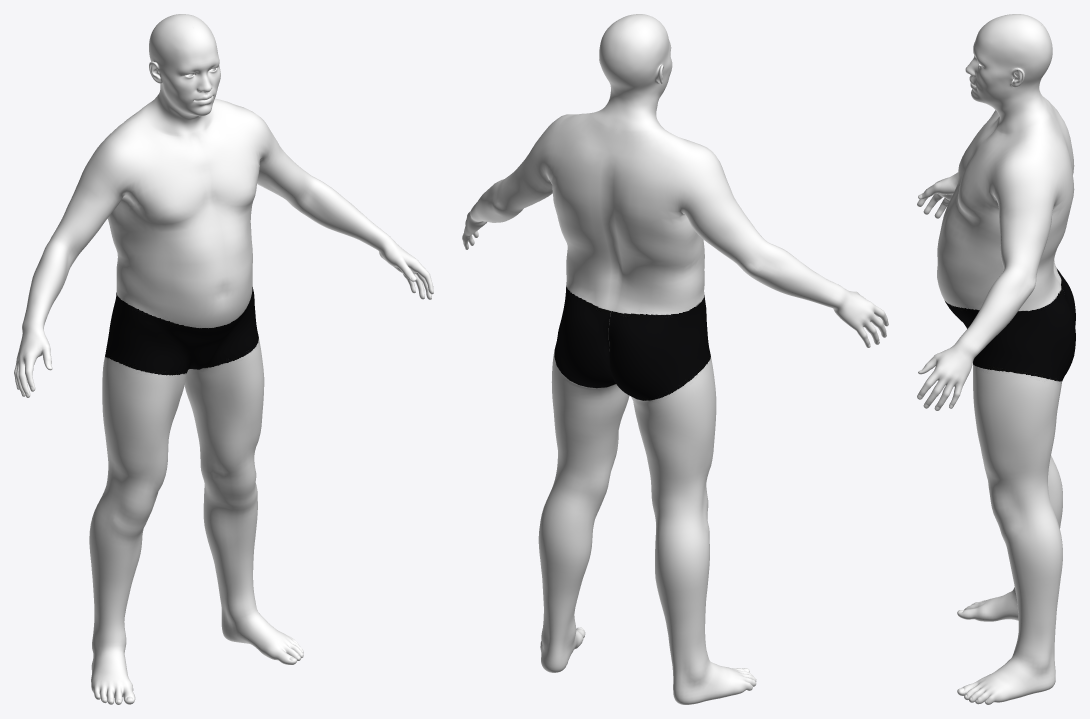
Rendered from alki_humgen_male_heavy.glb.
The picture shows the model from 3 angles, left to right: view 1: azimuth 30°, elevation 25°; view 2: azimuth 150°, elevation 25°; view 3: azimuth 270°, elevation 25°; orthographic projection. The views are drawn at different scales.
Visible parts, largest first — view 1: ALKI_male_heavy_preview; view 2: ALKI_male_heavy_preview; view 3: ALKI_male_heavy_preview.
Part boxes in pixels (x1=…): ALKI_male_heavy_preview: x1=14, y1=14, x2=433, y2=704; ALKI_male_heavy_preview: x1=462, y1=14, x2=888, y2=704; ALKI_male_heavy_preview: x1=917, y1=14, x2=1075, y2=704.
Size of the model in its own units: 1.18 by 1.78 by 0.4006.
Materials: 1 (1 with a texture image).
